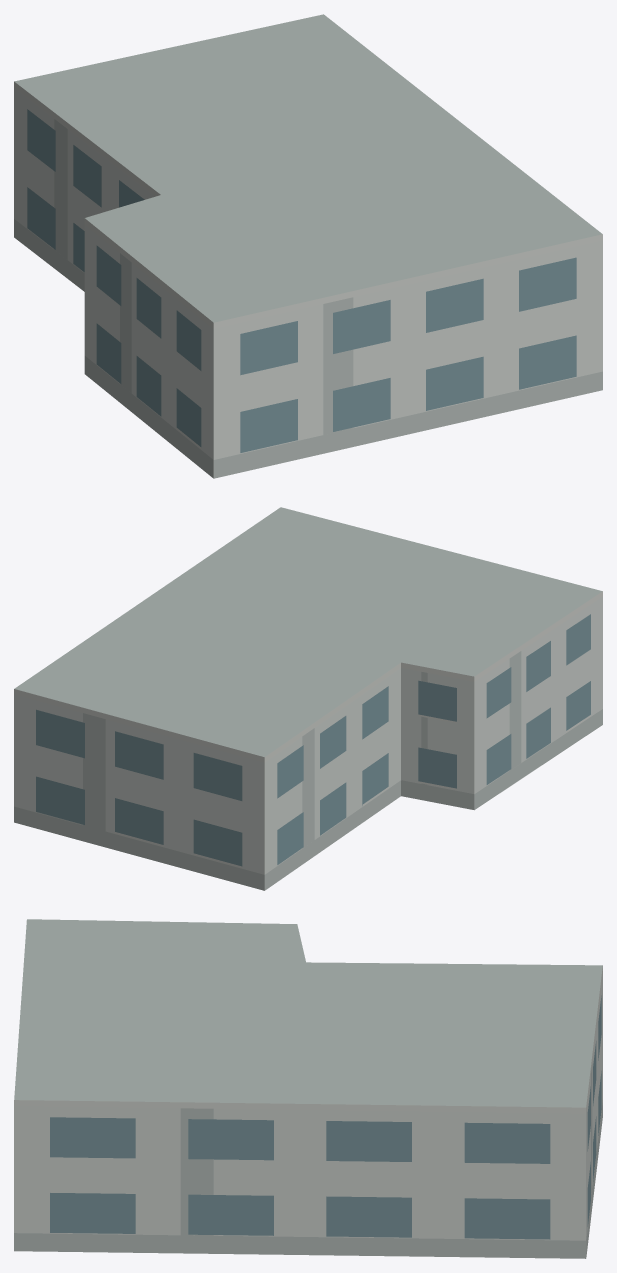
The model's file is survey-upis-32908237.glb.
3 views of the same model, one above another, from view 1: azimuth 30°, elevation 25°; view 2: azimuth 150°, elevation 25°; view 3: azimuth 270°, elevation 25° (orthographic). The views are drawn at different scales.
Parts seen in each view (by area): view 1: survey-upis-32908237.tmp; view 2: survey-upis-32908237.tmp; view 3: survey-upis-32908237.tmp.
Boxes of the visible parts, <box> form: survey-upis-32908237.tmp: <box>14,14,602,478</box>; survey-upis-32908237.tmp: <box>14,507,602,890</box>; survey-upis-32908237.tmp: <box>14,919,602,1258</box>.
Size of the model in its own units: 16.33 by 6.1 by 21.55.
